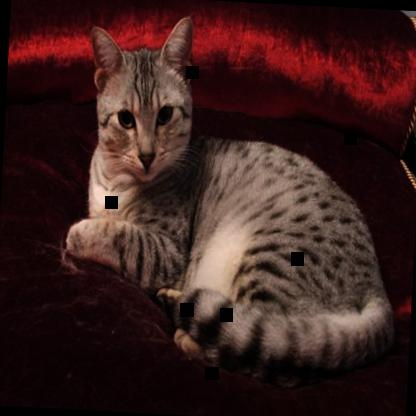cat: (58, 8, 411, 393)
